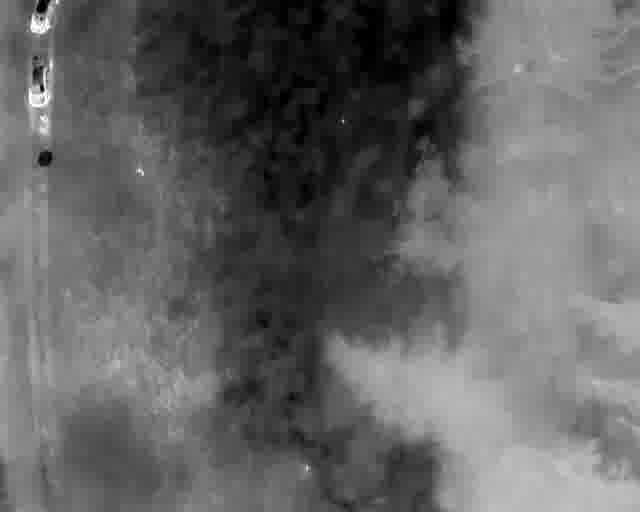car: (23, 53, 53, 107), (27, 0, 60, 34)
person: (38, 112, 49, 123), (38, 124, 48, 135)
